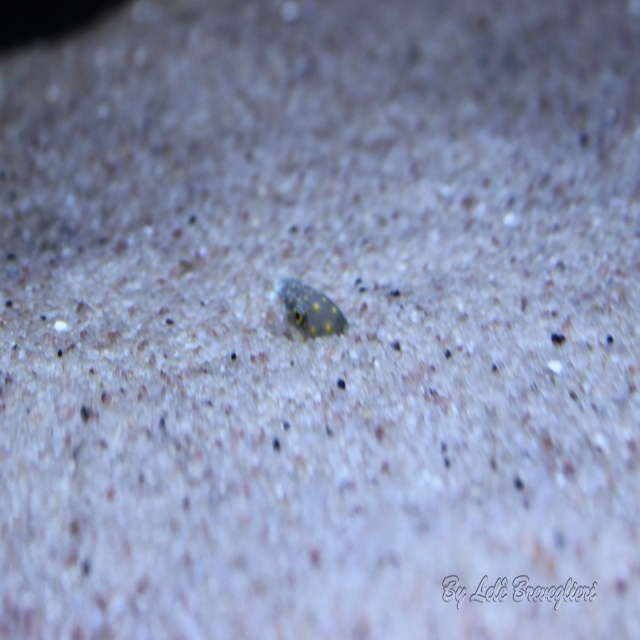Fish: (283, 284, 350, 349)
